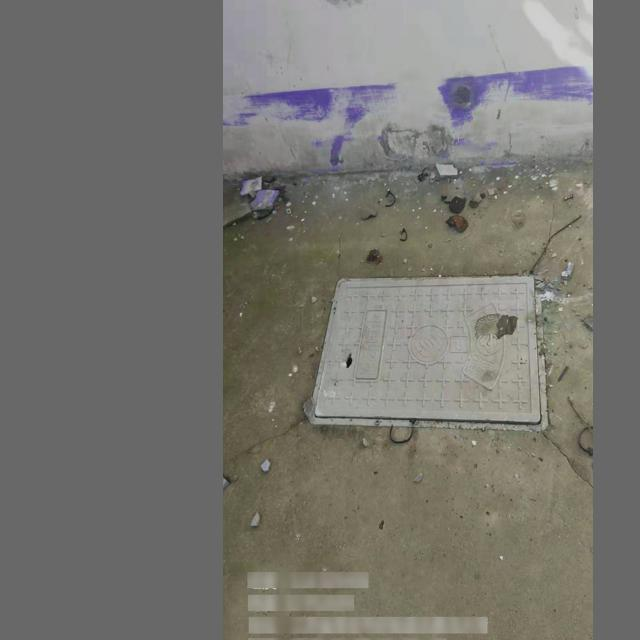good: (305, 273, 549, 432)
